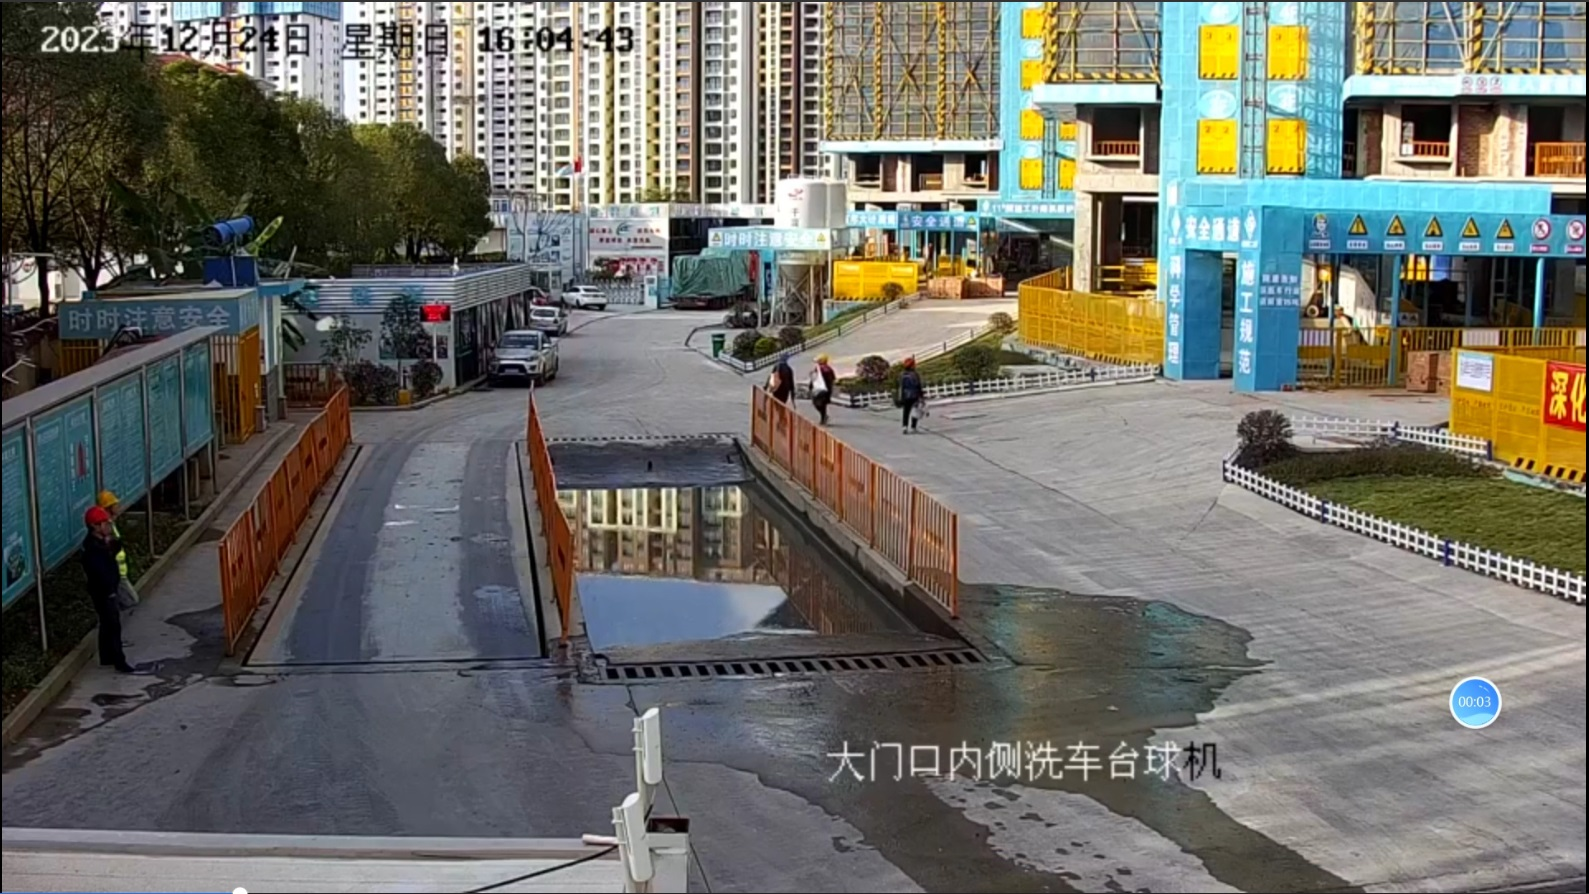person: (82, 507, 135, 672), (96, 489, 142, 616), (758, 349, 800, 438), (890, 356, 928, 434), (808, 354, 839, 427)
